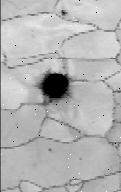good_void: (30, 65, 74, 114), (58, 9, 69, 17), (45, 146, 54, 154), (78, 156, 83, 163), (60, 65, 66, 70)
